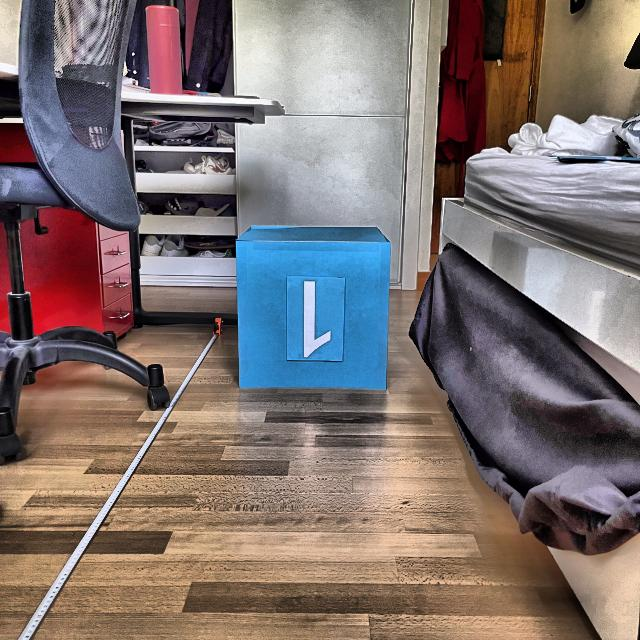blue box: (235, 224, 390, 390)
one: (302, 280, 332, 359)
